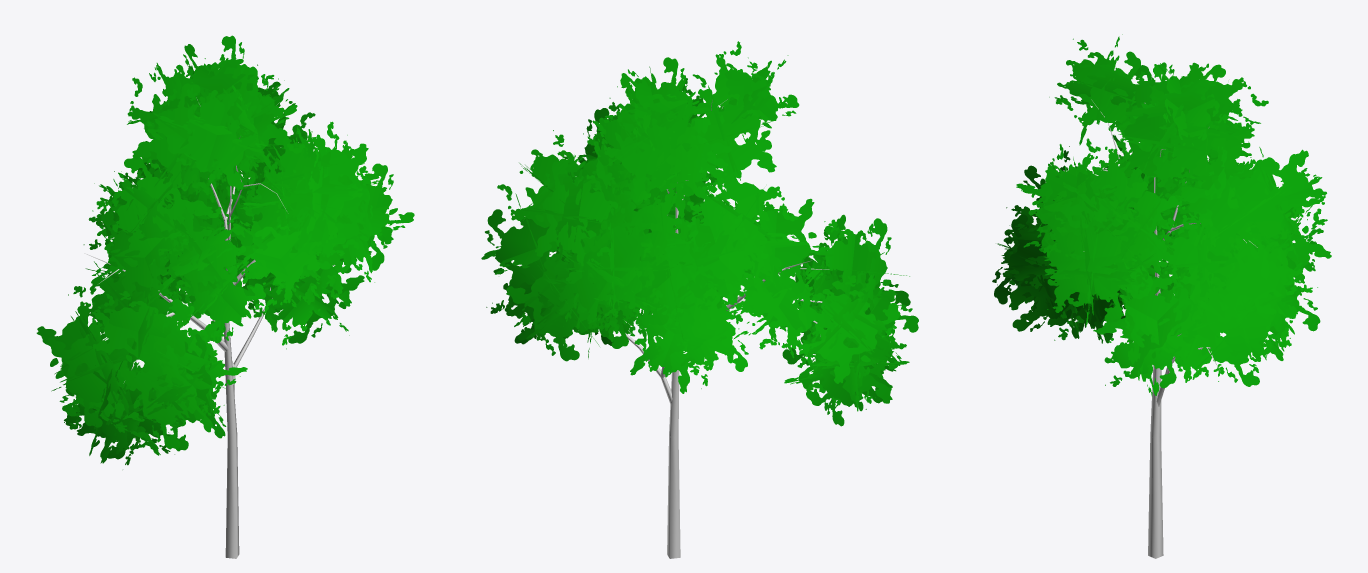
File: tree.fbx
The picture shows the model from 3 angles, left to right: view 1: azimuth 30°, elevation 25°; view 2: azimuth 150°, elevation 25°; view 3: azimuth 270°, elevation 25°; orthographic projection.
Visible parts, largest first — view 1: _1_fewerLeaves, trunk; view 2: _1_fewerLeaves, trunk; view 3: _1_fewerLeaves, trunk.
Part boxes in pixels (<box>): _1_fewerLeaves: <box>36,35,414,465</box>; trunk: <box>84,97,286,558</box>; _1_fewerLeaves: <box>481,41,918,426</box>; trunk: <box>625,99,829,558</box>; _1_fewerLeaves: <box>992,34,1331,396</box>; trunk: <box>1083,74,1257,558</box>.
Bounding box in the file's own units: 562 × 734 × 498.
